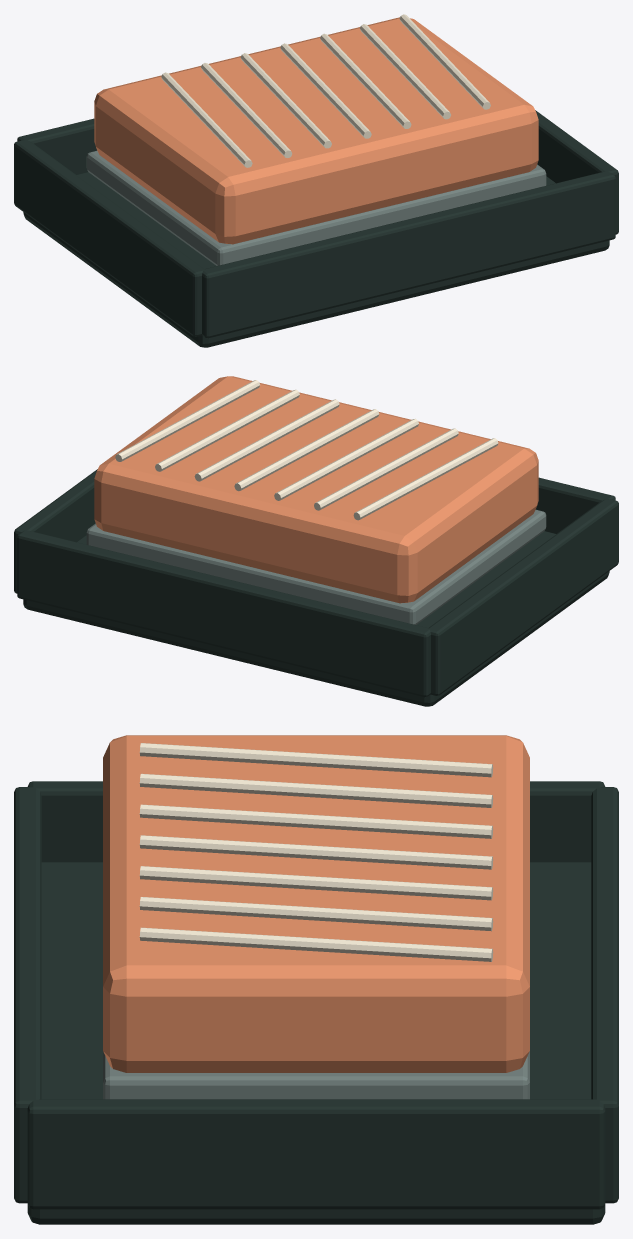
The model's file is salmon.fbx.
The picture shows the model from 3 angles, top to bottom: view 1: azimuth 30°, elevation 25°; view 2: azimuth 150°, elevation 25°; view 3: azimuth 270°, elevation 25°; orthographic projection. The views are drawn at different scales.
Visible parts, largest first — view 1: salmon; view 2: salmon; view 3: salmon.
Boxes of the visible parts, x1,y1,x2,y2 form: salmon: (14, 14, 618, 347); salmon: (14, 376, 618, 706); salmon: (14, 735, 618, 1224).
Size of the model in its own units: 31.1 by 10.18 by 24.1.
